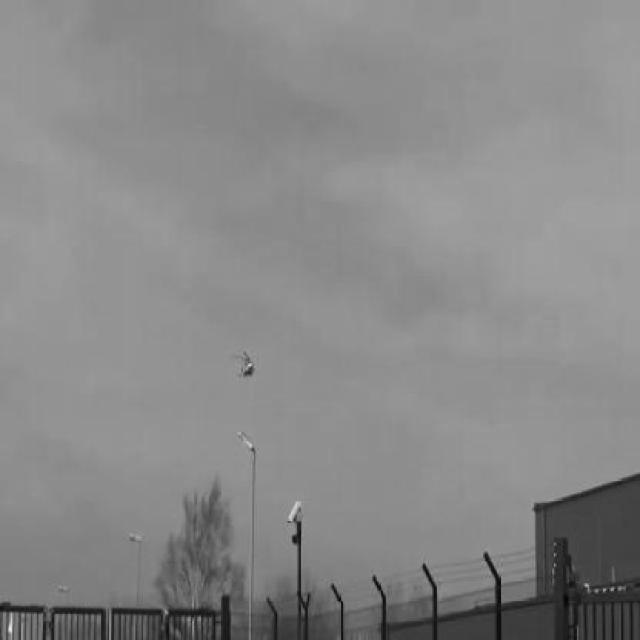helikopter: (234, 344, 260, 390)
